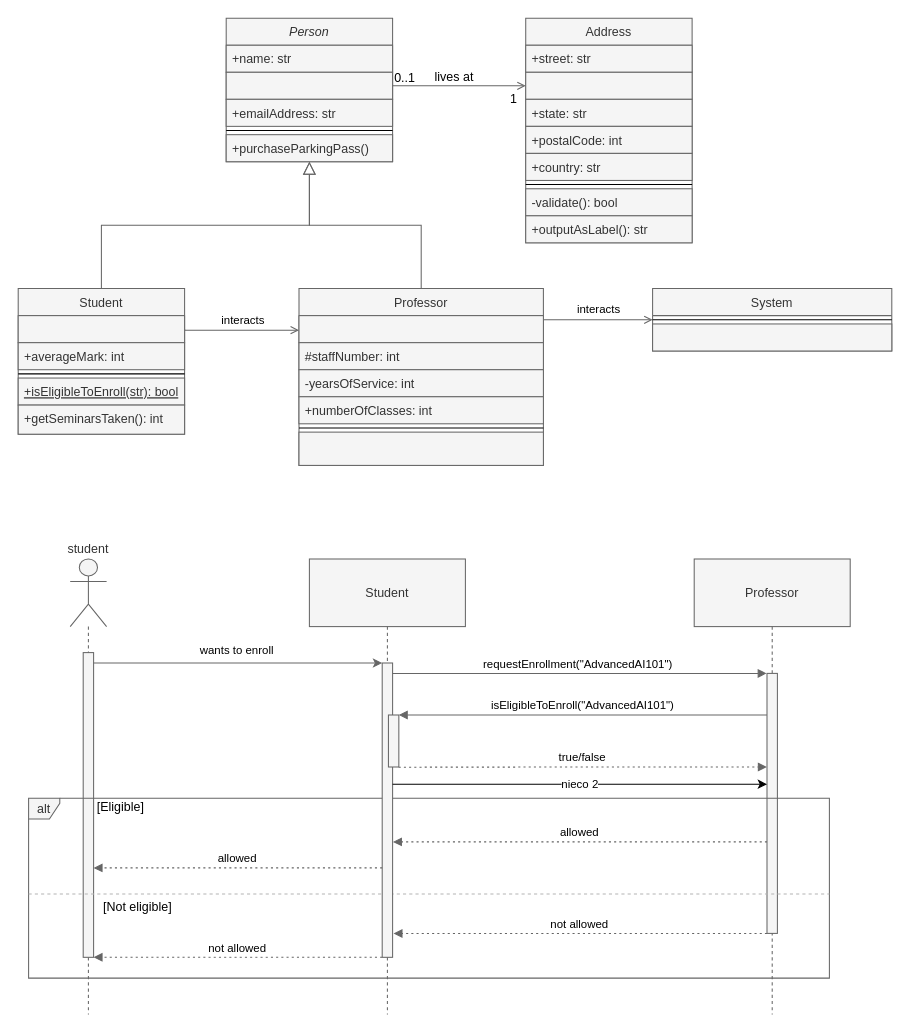
Some shapes in this 910 by 1033 pixel diagram are drawn without their labels. Here are the shapes that lost their labels. From the top down, the centre of each, then its label:
At point (309, 85): "+phoneNumber: str".
At point (608, 85): "+city: str".
At point (101, 329): "+studentNumber: int".
At point (420, 329): "/salary: int".
At point (772, 337): "+approveEnrollment(course str): bool".
At point (420, 448): "+requestEnrollment(course str): bool".
